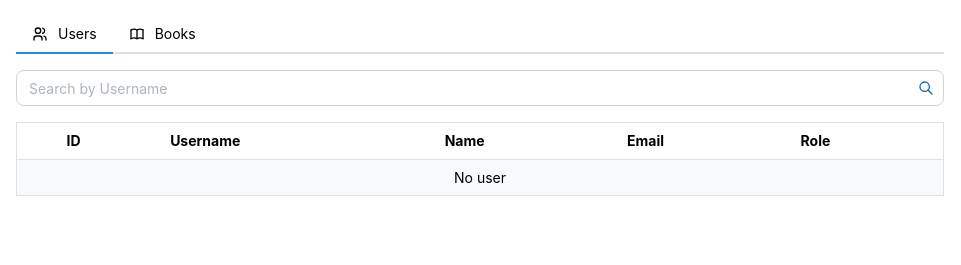
AdminPage › shows "No user" and "No book" when API returns empty arrays
Expected: the text "No user" is shown, [16,159,944,196]
Click the tab "Books" at point(162, 35), box [113,16,212,54]
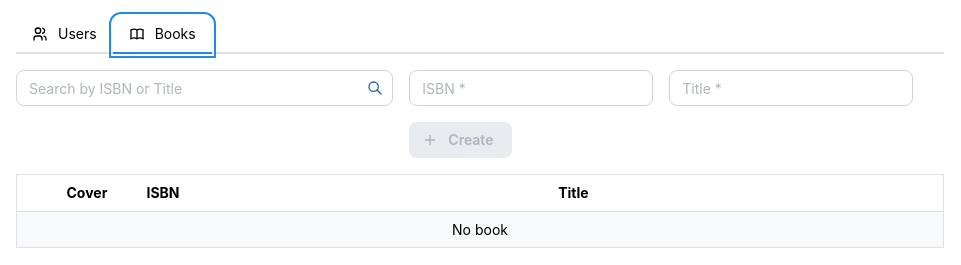
Now the text "No book" is shown, box [16,211,944,248]
